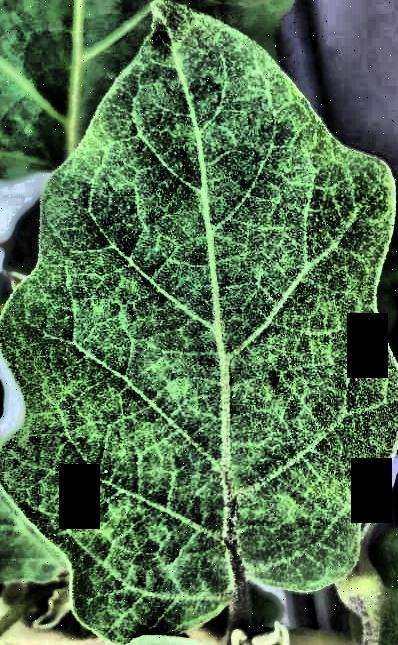HEALTHY: (1, 0, 398, 645)
